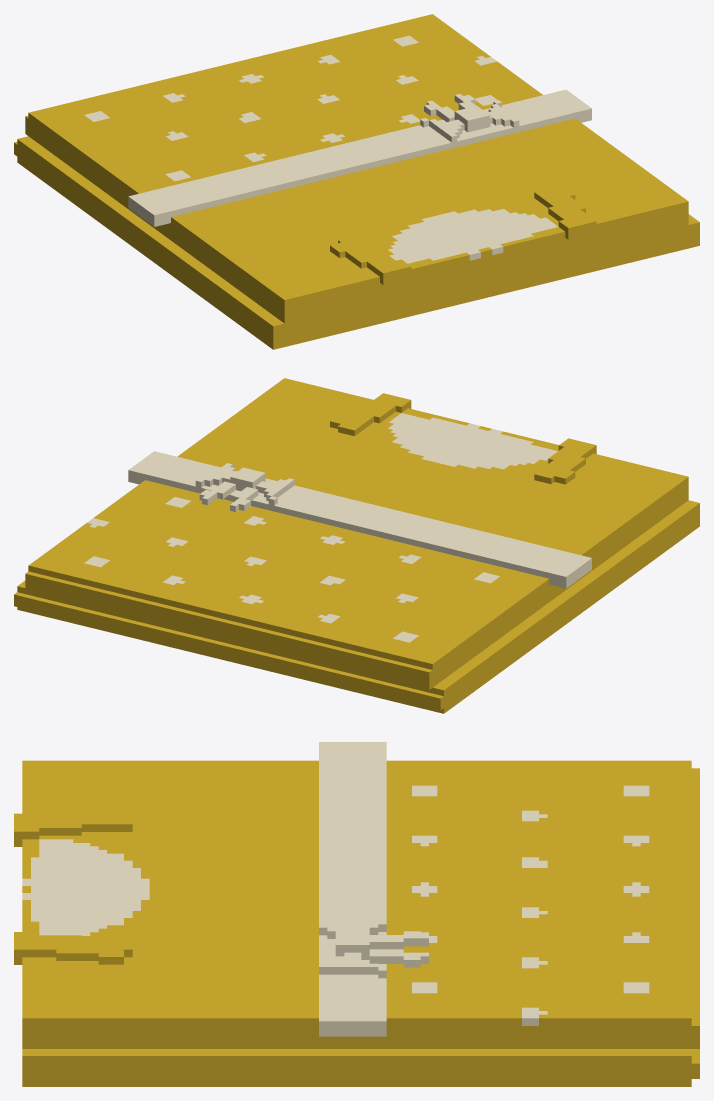
File: sundress.glb
The picture shows the model from 3 angles, top to bottom: view 1: azimuth 30°, elevation 25°; view 2: azimuth 150°, elevation 25°; view 3: azimuth 270°, elevation 25°; orthographic projection. The views are drawn at different scales.
Visible parts, largest first — view 1: sundress:compound; view 2: sundress:compound; view 3: sundress:compound.
Part boxes in pixels (x1,y1,x2,y2): sundress:compound: (14,14,699,349); sundress:compound: (14,378,699,713); sundress:compound: (14,742,699,1086).
Bounding box in the file's own units: 0.312 × 0.044 × 0.324.
